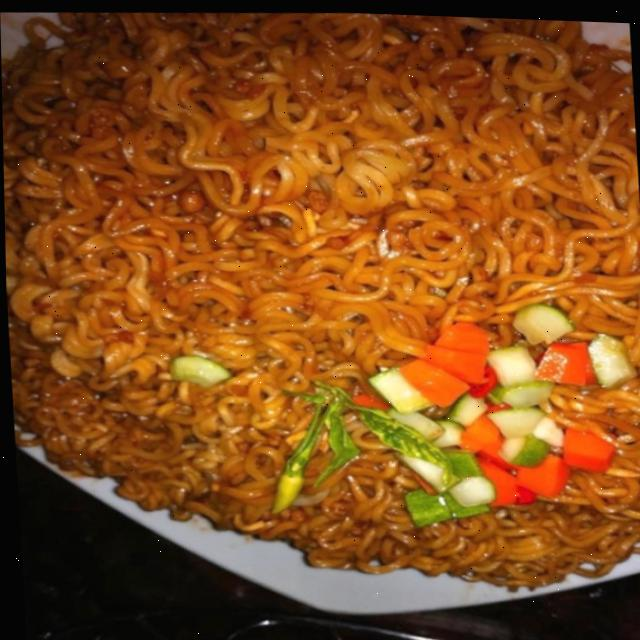面条主食: (17, 10, 640, 640)
